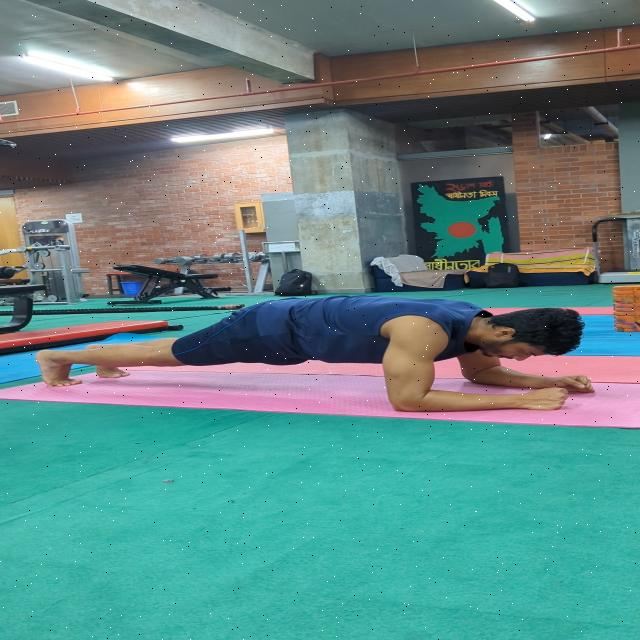Normal_Plunk: (8, 294, 608, 444)
